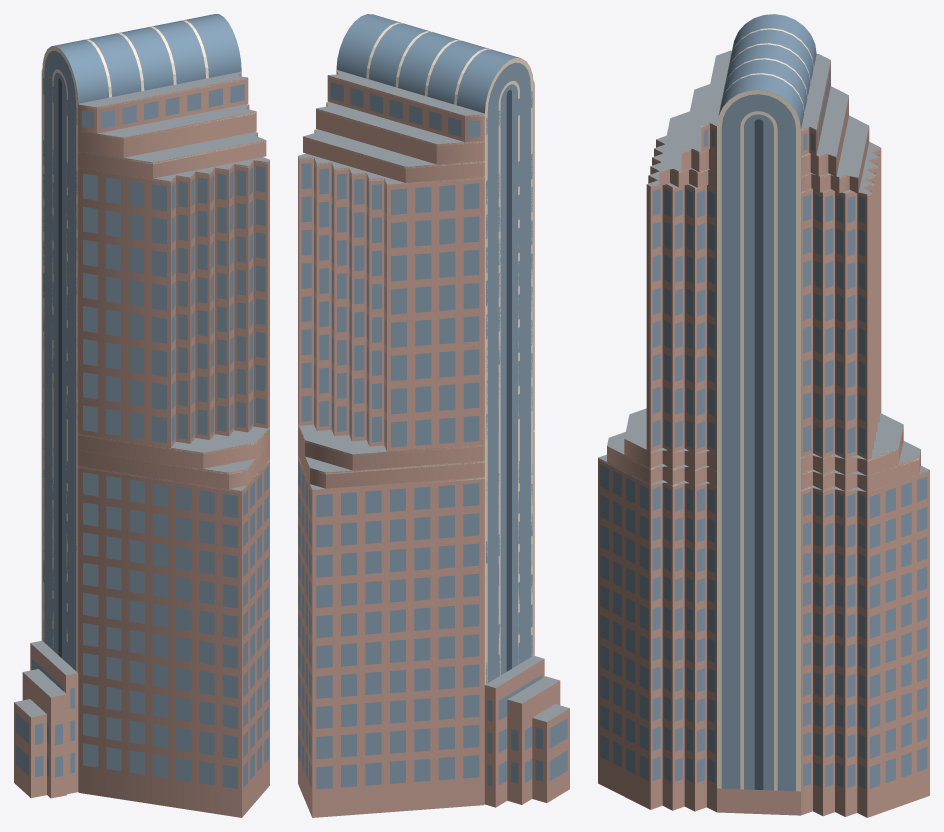
The picture shows the model from 3 angles, left to right: view 1: azimuth 30°, elevation 25°; view 2: azimuth 150°, elevation 25°; view 3: azimuth 270°, elevation 25°; orthographic projection.
Visible parts, largest first — view 1: one-wells-fargo-center; view 2: one-wells-fargo-center; view 3: one-wells-fargo-center.
Part boxes in pixels (x1,y1,x2,y2): one-wells-fargo-center: (14, 14, 269, 817); one-wells-fargo-center: (298, 14, 569, 817); one-wells-fargo-center: (598, 14, 929, 817).
Size of the model in its own units: 54.14 by 180 by 74.71.
